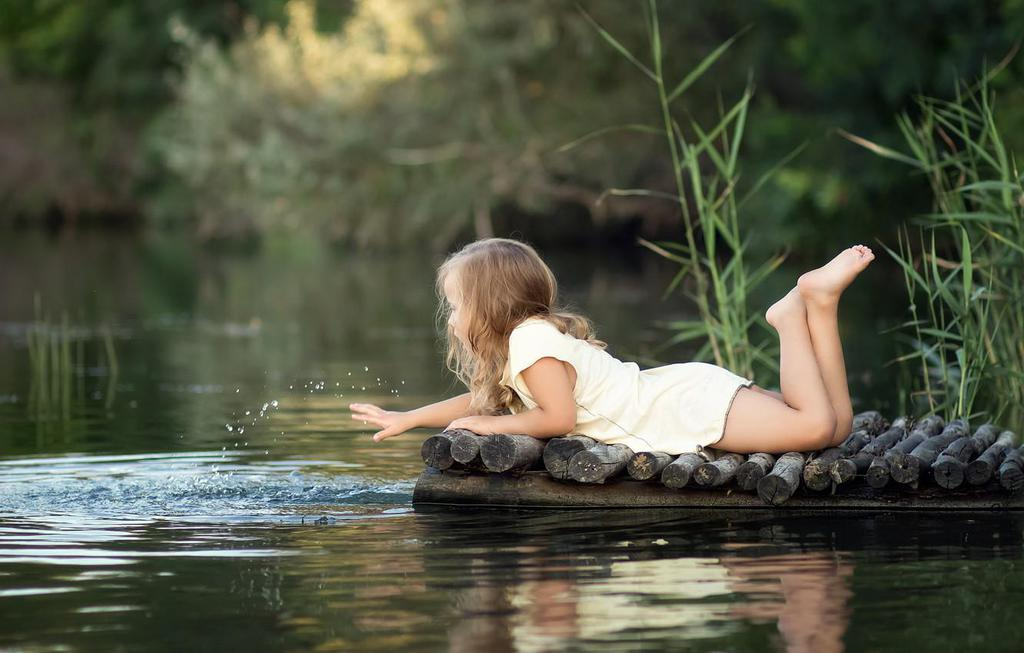child: (324, 228, 881, 470)
